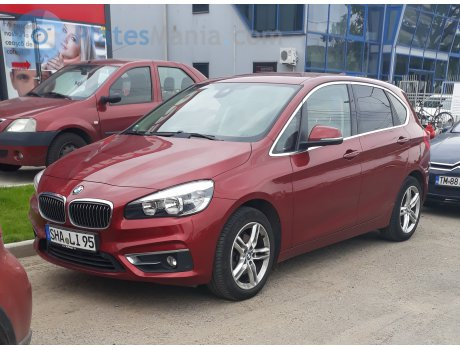License Plates: (47, 225, 95, 247)
